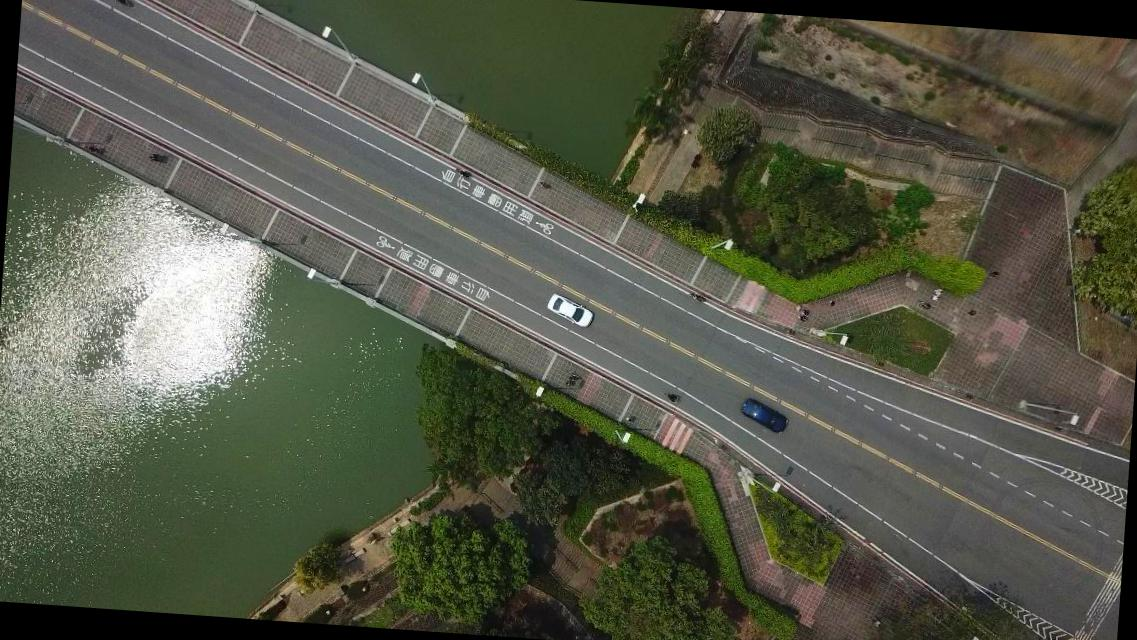vehicle: (544, 292, 594, 330), (738, 398, 790, 434)
